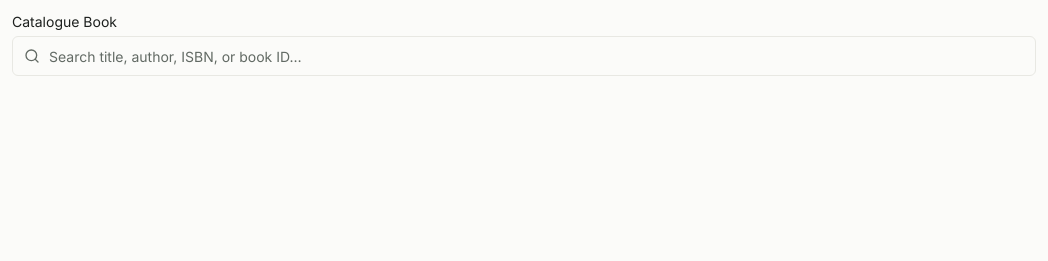
Test: CatalogueSelector › shows a no-match message for a search with no RPC results
Type "No such title" into the field named "Catalogue Book" at (524, 56), box [12,36,1036,76]
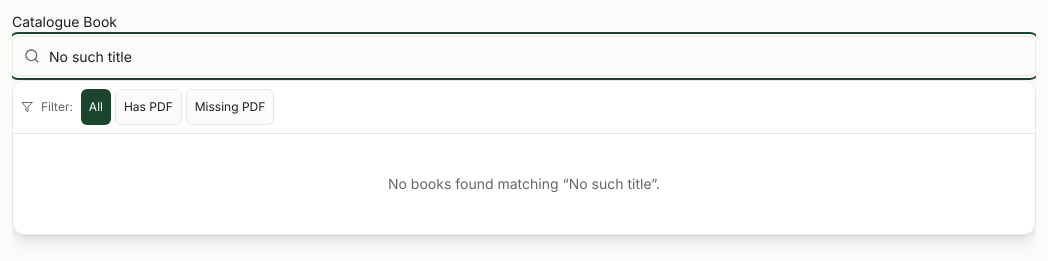
Result: the text "No books found matching “No such title”." is shown at [388,175,660,192]
